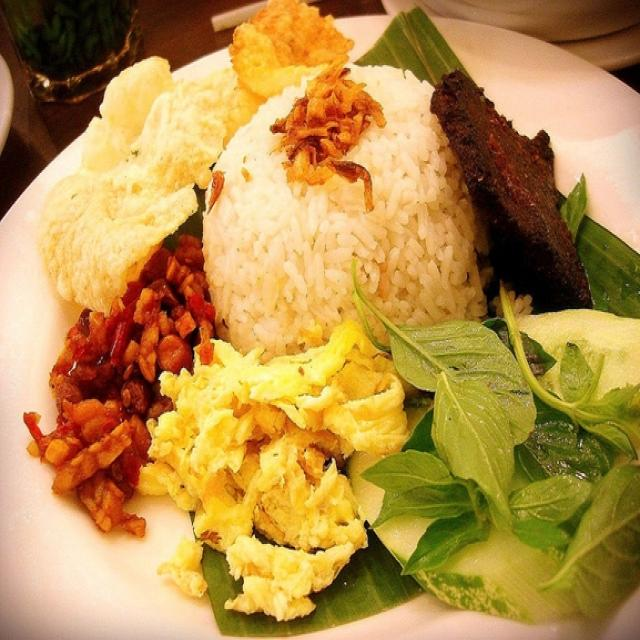米饭主食: (14, 15, 614, 628)
